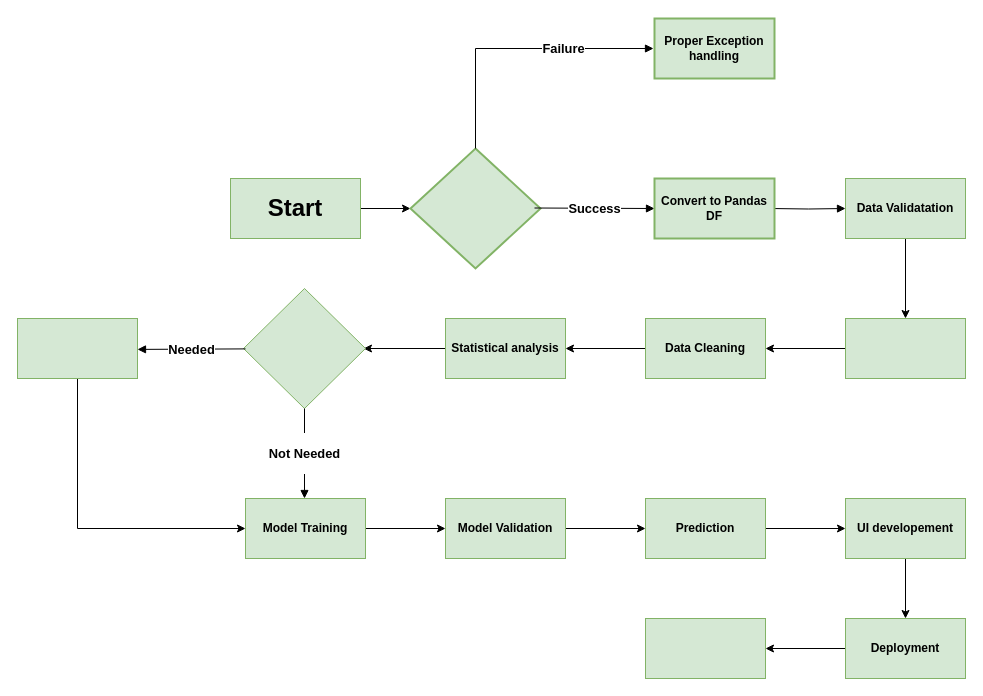
This 983x696 diagram has some shape labels left out. The centre of each missing label's shape, as x and y in pixels:
"Check for Clustering" goes at point (304, 348).
"Data Preprocessing" goes at point (905, 348).
"END" goes at point (705, 648).
"Get Data from the source" goes at point (475, 208).
"Perform Clustering" goes at point (77, 348).
